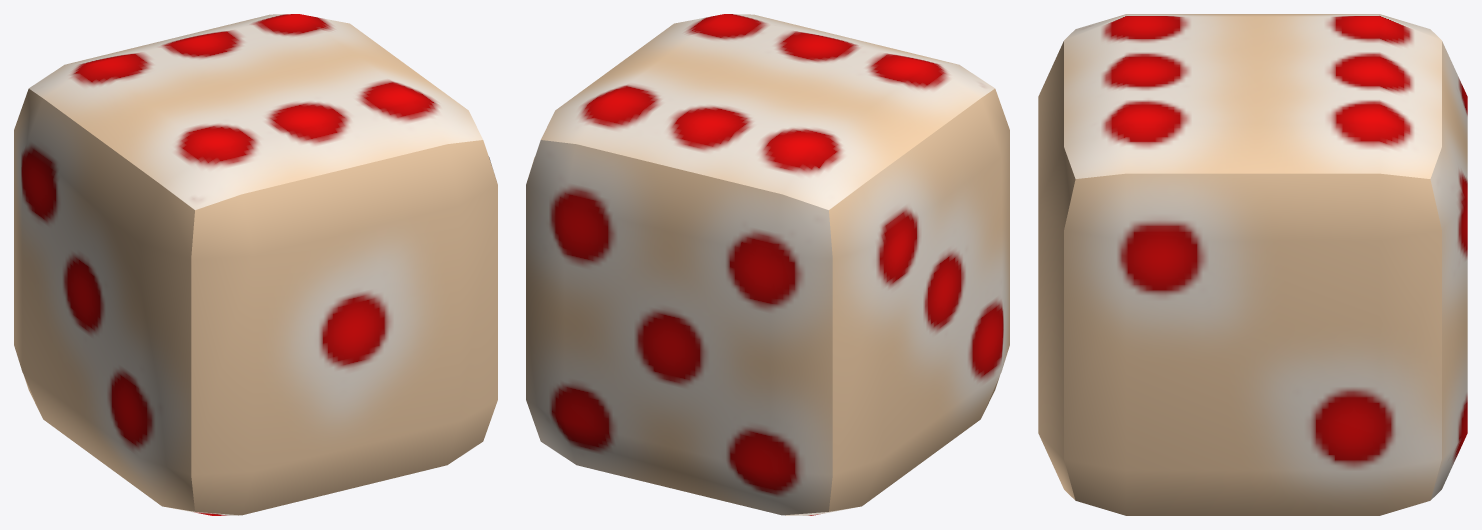
File: DiceRed.fbx
3 renders of one model, left to right at view 1: azimuth 30°, elevation 25°; view 2: azimuth 150°, elevation 25°; view 3: azimuth 270°, elevation 25°, orthographic. The views are drawn at different scales.
Parts seen in each view (by area): view 1: DiceRed; view 2: DiceRed; view 3: DiceRed.
Part boxes in pixels (x1=…): DiceRed: x1=14, y1=14, x2=497, y2=515; DiceRed: x1=526, y1=14, x2=1009, y2=515; DiceRed: x1=1038, y1=14, x2=1467, y2=515.
Size of the model in its own units: 23.23 by 23.23 by 23.23.
1 material, 1 textured.
